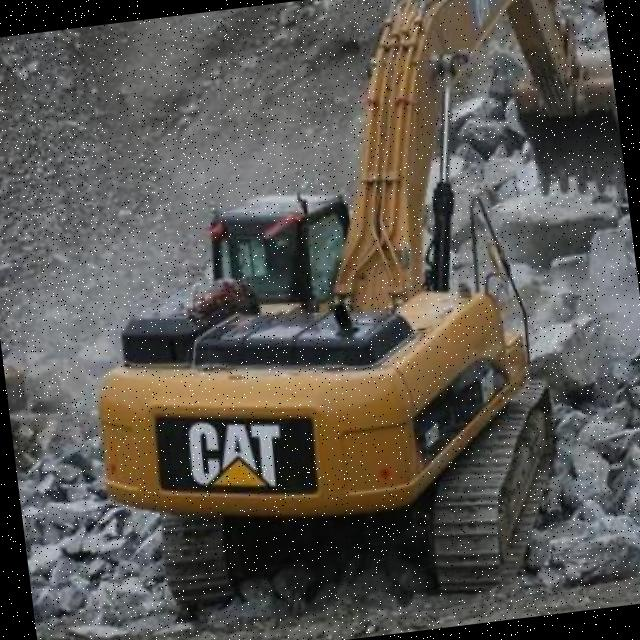Excavator: (47, 0, 640, 634)
